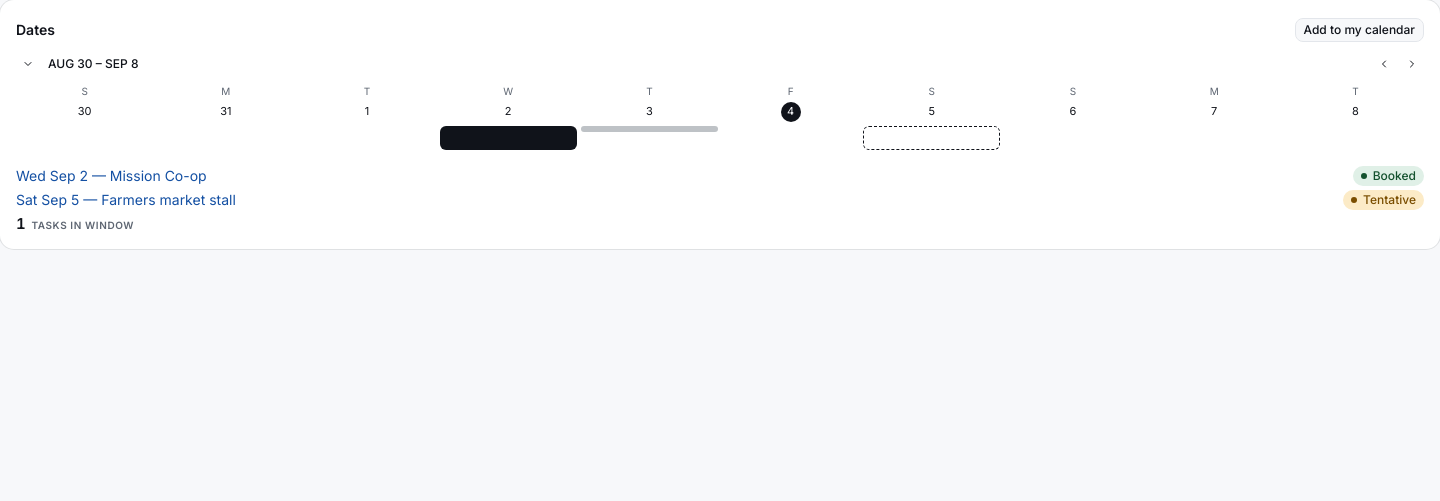
it: DatesPanel › opens the month grid beneath the strip
Expected: the text "SEPTEMBER 2026" is not shown
Click the button named "Toggle month" at (28, 64), box x1=16 y1=52 x2=40 y2=76
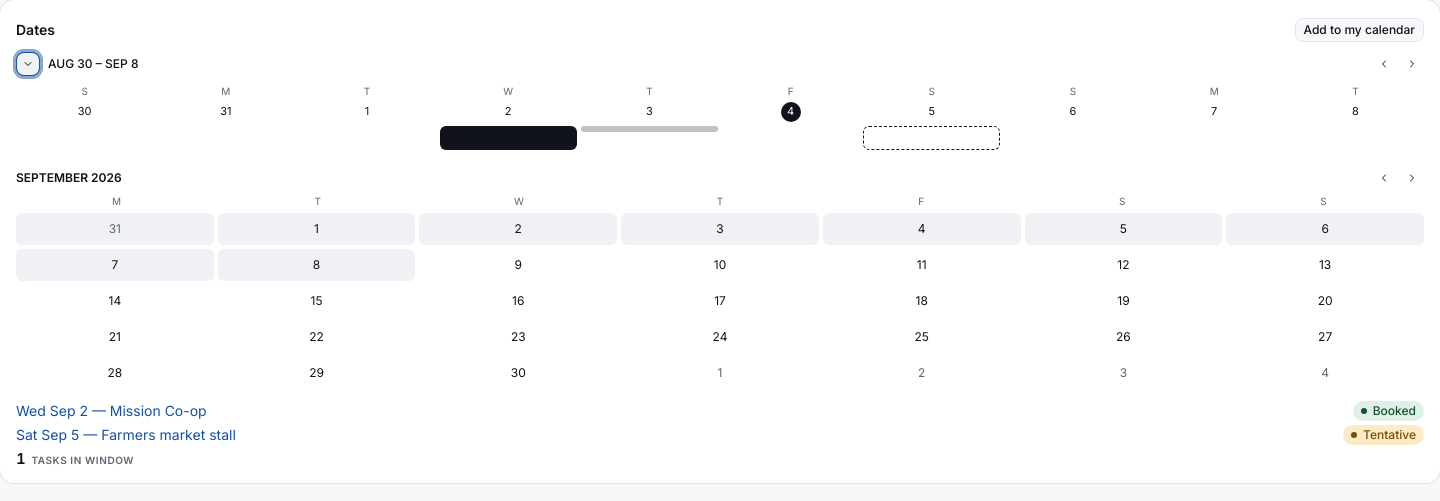
Expected: the text "SEPTEMBER 2026" is shown, x1=16 y1=170 x2=122 y2=186
